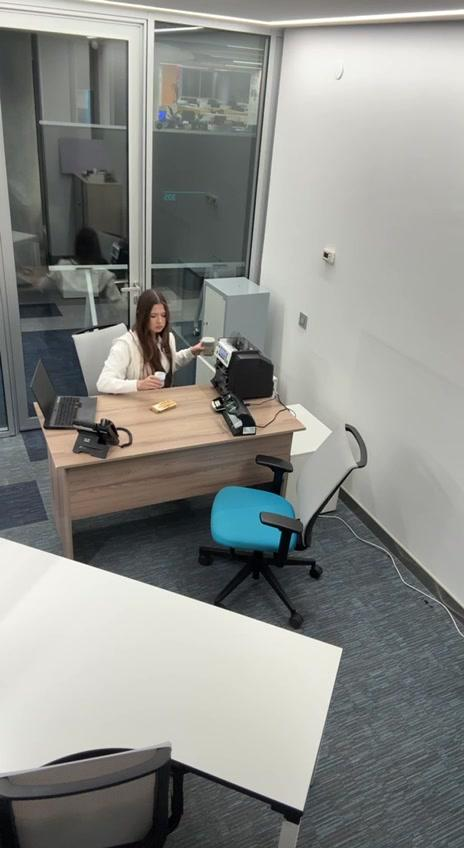cash_stack: (149, 399, 176, 414)
counter: (214, 337, 273, 399)
key_in: (202, 321, 209, 326)
uv_lamp: (223, 395, 258, 437)
